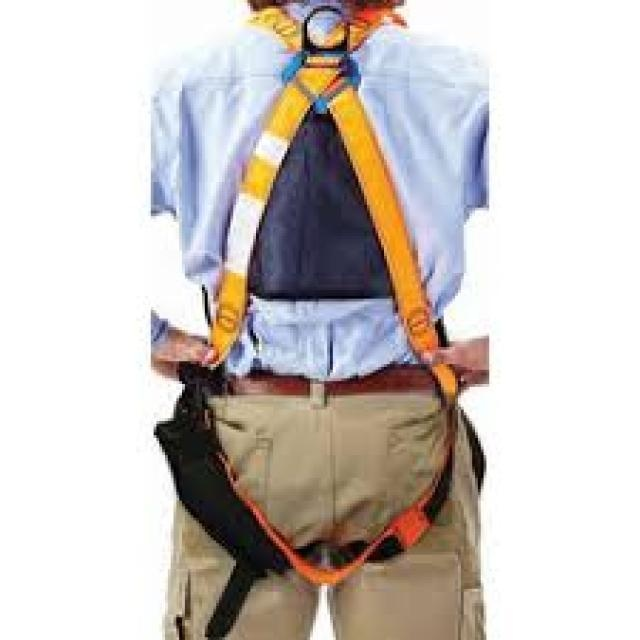Arnes_seguridad: (150, 8, 489, 589)
